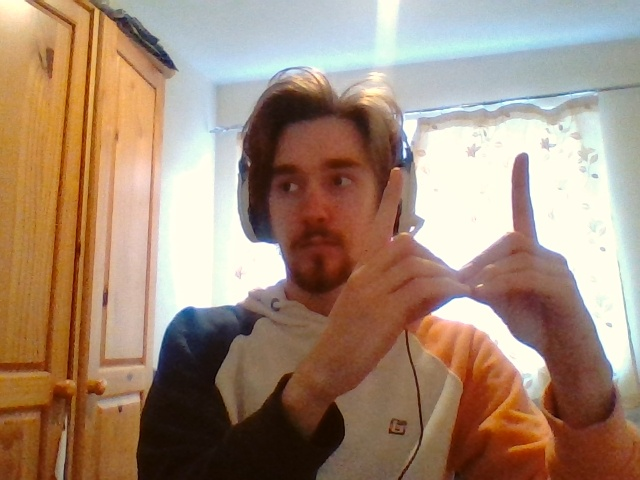meet: (378, 153, 538, 291)
